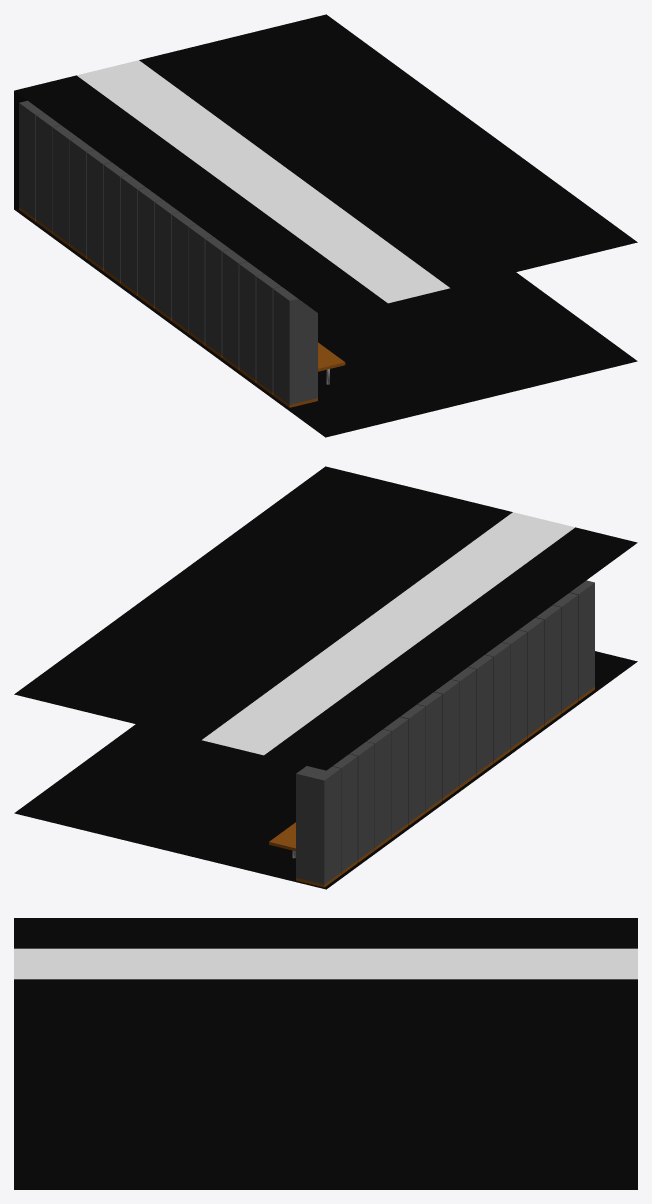
The model's file is BigTeamLockerRoom.fbx.
3 renders of one model, top to bottom at view 1: azimuth 30°, elevation 25°; view 2: azimuth 150°, elevation 25°; view 3: azimuth 270°, elevation 25°, orthographic.
Parts seen in each view (by area): view 1: Room, Locker.015, Locker.009, Locker.001, Locker.002, Locker.007, Locker.008, Locker, Locker.003, Locker.006, Locker.010, Locker.011 (+5 smaller); view 2: Room, Locker.005, Locker.002, Locker.007, Locker.011, Locker, Locker.003, Locker.006, Locker.013, Locker.001, Locker.012, Locker.010 (+5 smaller); view 3: Room.
Part boxes in pixels (x1,y1,x2,y2): Room: (14,14,637,437); Locker.015: (273,287,317,407); Locker.009: (222,249,247,370); Locker.001: (86,150,111,270); Locker.002: (103,162,128,283); Locker.007: (137,187,162,308); Locker.008: (205,237,230,357); Locker: (69,138,94,258); Locker.003: (52,125,77,246); Locker.006: (120,175,145,295); Locker.010: (239,262,264,382); Locker.011: (188,225,213,345); Room: (14,466,637,889); Locker.005: (296,766,340,887); Locker.002: (400,704,425,825); Locker.007: (434,679,459,800); Locker.011: (485,642,510,763); Locker: (366,729,391,850); Locker.003: (349,742,374,862); Locker.006: (417,692,442,812); Locker.013: (451,667,476,787); Locker.001: (383,717,408,837); Locker.012: (468,655,493,775); Locker.010: (535,605,560,726); Room: (14,918,637,1189).
Bounding box in the file's own units: 1100 × 400 × 1900.
